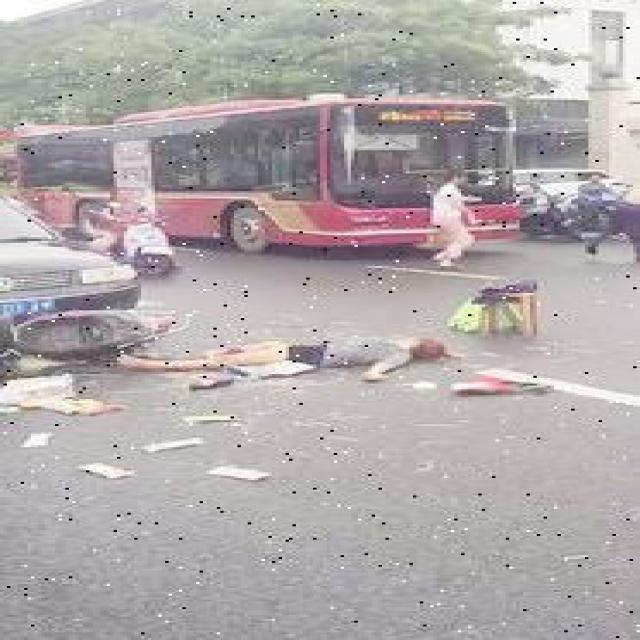fall: (124, 330, 464, 378)
